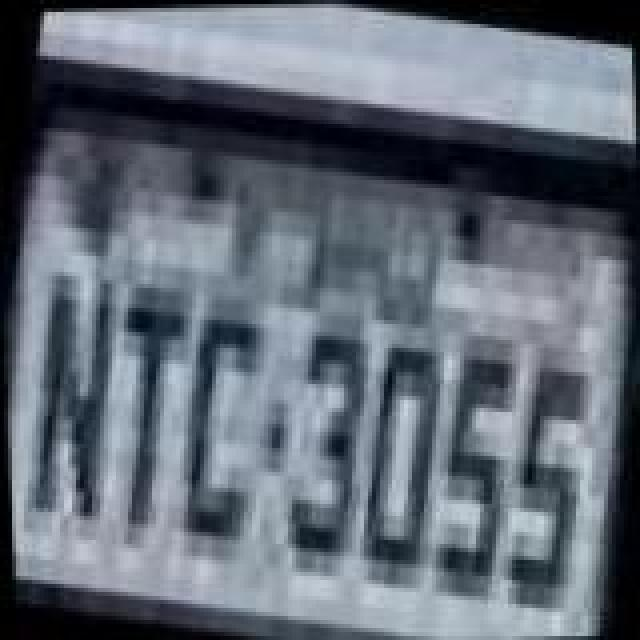3: (264, 308, 388, 568)
5: (412, 330, 532, 606), (484, 350, 604, 618)
C: (162, 302, 282, 550)
N: (2, 260, 134, 540)
O: (338, 324, 458, 588)
T: (84, 280, 200, 548)
